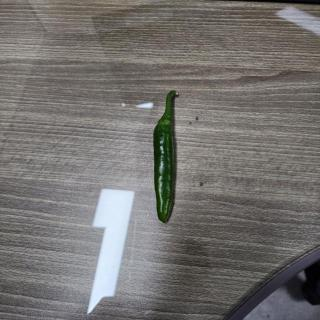Cabai Hijau: (153, 91, 180, 224)
